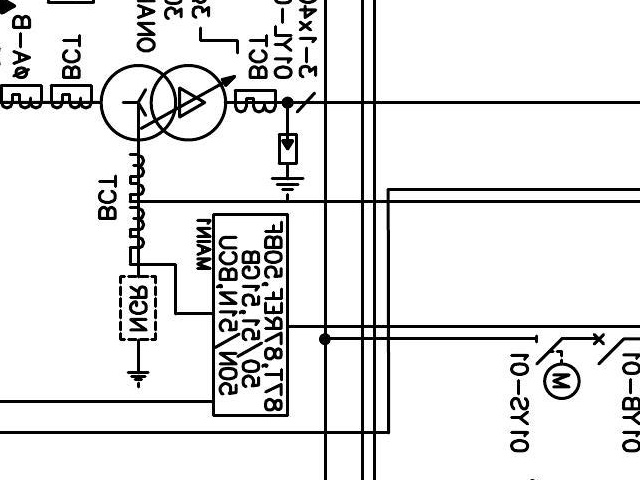11522_tx_dyn1: (541, 147, 551, 165), (411, 147, 421, 165)
115_1way_ds_w_motor: (587, 84, 597, 92), (377, 58, 391, 63), (132, 58, 146, 63), (213, 58, 227, 63), (293, 58, 307, 63), (426, 58, 440, 63), (507, 58, 521, 63), (52, 58, 65, 63), (587, 98, 596, 105), (133, 84, 142, 90), (133, 99, 142, 105), (214, 84, 223, 90), (214, 99, 223, 105), (294, 84, 303, 90), (294, 99, 303, 105), (427, 84, 436, 90), (427, 99, 436, 105), (53, 84, 61, 90), (53, 99, 61, 105), (378, 99, 386, 105), (378, 84, 386, 90), (508, 99, 516, 105), (508, 84, 516, 90)
115_breaker: (591, 93, 597, 97), (57, 93, 62, 97), (218, 93, 223, 97), (431, 93, 436, 97), (382, 93, 387, 97), (512, 93, 517, 97), (138, 93, 142, 97), (299, 93, 303, 97)
115_gs: (158, 59, 164, 62), (319, 59, 325, 62), (452, 59, 458, 62), (78, 59, 83, 62), (239, 59, 244, 62)
115_la: (404, 136, 412, 141), (534, 136, 542, 141), (244, 71, 248, 78), (457, 71, 461, 78), (83, 71, 86, 78), (164, 71, 167, 78), (325, 71, 328, 78)
115_vt_1p: (583, 145, 605, 167)
115_vt_3p: (166, 58, 185, 79), (327, 58, 346, 79), (86, 58, 104, 79), (247, 58, 265, 79), (460, 58, 478, 79)
22_breaker: (33, 209, 37, 226), (116, 209, 120, 226), (567, 209, 571, 226), (592, 209, 596, 225), (309, 198, 323, 202), (76, 209, 79, 226), (492, 209, 495, 226), (132, 209, 135, 226), (194, 209, 197, 226), (244, 209, 247, 226), (408, 209, 411, 226), (470, 209, 473, 226), (219, 209, 222, 225), (449, 209, 452, 225), (549, 209, 552, 225)
22_cap_bank: (571, 281, 620, 316), (13, 281, 61, 316)
22_ds: (269, 209, 274, 228), (379, 209, 384, 228)
22_ds_la_out: (72, 286, 80, 303), (113, 286, 121, 303), (191, 286, 199, 303), (216, 286, 224, 303), (241, 286, 249, 303), (405, 286, 413, 303), (446, 286, 454, 303), (467, 286, 475, 303), (546, 286, 554, 303), (564, 286, 572, 303)
22_ds_out: (111, 257, 116, 264), (189, 257, 194, 264), (465, 257, 470, 264), (562, 257, 567, 264), (28, 257, 33, 263), (587, 257, 592, 263), (265, 257, 270, 263), (214, 257, 219, 263), (375, 257, 380, 263), (487, 260, 492, 266), (71, 257, 75, 264), (239, 257, 243, 264), (403, 257, 407, 264), (127, 259, 131, 265), (444, 257, 448, 263), (544, 257, 548, 263)
22_gs: (496, 257, 500, 260), (37, 255, 42, 257), (120, 255, 125, 257), (384, 255, 389, 257), (571, 255, 576, 257), (274, 255, 278, 257), (80, 255, 84, 257), (136, 257, 140, 259), (198, 255, 202, 257), (223, 255, 227, 257), (248, 255, 252, 257), (412, 255, 416, 257), (453, 255, 457, 257), (474, 255, 478, 257), (553, 255, 557, 257), (596, 255, 600, 257)
22_ll: (332, 209, 351, 239), (294, 209, 312, 239)
DIM: (317, 244, 325, 250), (512, 243, 520, 248), (148, 243, 156, 248), (90, 246, 97, 251), (422, 247, 429, 252), (76, 84, 83, 88), (157, 84, 164, 88), (238, 84, 245, 88), (318, 84, 325, 88), (451, 84, 458, 88)
DPM: (446, 166, 454, 172), (576, 166, 584, 172), (597, 179, 605, 184), (118, 63, 125, 68), (294, 250, 300, 255), (199, 63, 205, 68), (280, 63, 286, 68), (360, 63, 366, 68), (493, 63, 499, 68), (324, 253, 330, 257)
MU: (379, 157, 394, 162), (509, 157, 524, 162)
NGR_future: (612, 272, 619, 277), (53, 272, 59, 277)
ss_man_mode: (273, 29, 298, 35), (112, 29, 136, 35)
tele_protection: (133, 260, 140, 264), (493, 260, 500, 264), (412, 181, 417, 185), (542, 181, 547, 185)
terminator_double: (271, 300, 274, 303), (381, 300, 384, 303), (76, 282, 79, 284), (34, 278, 37, 280), (593, 278, 596, 280), (117, 282, 120, 284), (195, 282, 198, 284), (220, 282, 223, 284), (245, 282, 248, 284), (450, 282, 453, 284), (471, 282, 474, 284), (550, 282, 553, 284), (568, 282, 571, 284), (409, 282, 411, 284)
terminator_splicing_kits: (34, 260, 41, 264), (76, 260, 83, 264), (117, 260, 124, 264), (195, 260, 202, 264), (220, 260, 227, 264), (245, 260, 252, 264), (271, 260, 278, 264), (381, 260, 388, 264), (471, 260, 478, 264), (568, 260, 575, 264), (593, 260, 600, 264), (409, 260, 415, 264), (450, 260, 456, 264), (550, 260, 556, 264)
terminator_w_future: (439, 166, 444, 172), (569, 166, 574, 172)
v_m: (597, 186, 613, 191)
